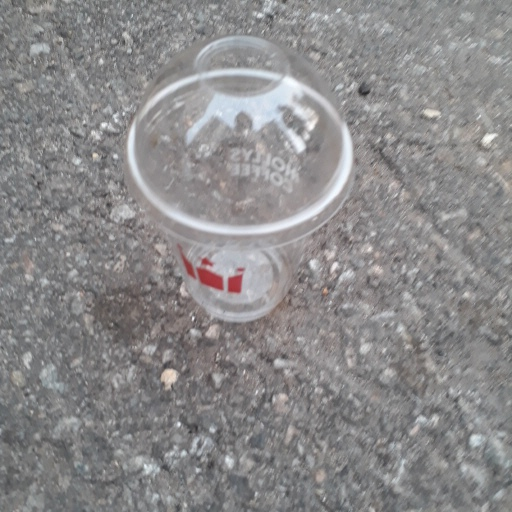Plastic_2: (122, 34, 365, 323)
